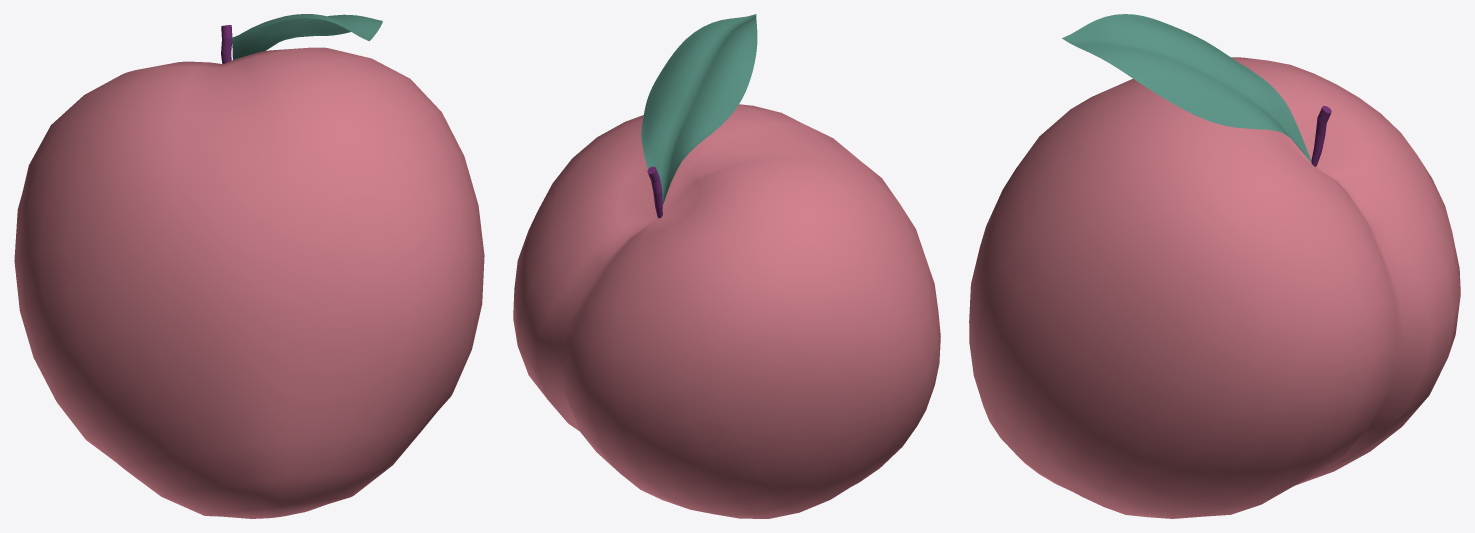
The model's file is Peach.glb.
3 views of the same model, side by side, from view 1: azimuth 30°, elevation 25°; view 2: azimuth 150°, elevation 25°; view 3: azimuth 270°, elevation 25° (orthographic). The views are drawn at different scales.
Visible parts, largest first — view 1: Peach; view 2: Peach; view 3: Peach.
Part boxes in pixels (box(x1,y1,x2,y2)): Peach: box(14, 14, 484, 518); Peach: box(513, 14, 940, 518); Peach: box(969, 14, 1460, 518).
Bounding box in the file's own units: 2.1 × 2.36 × 2.11.
